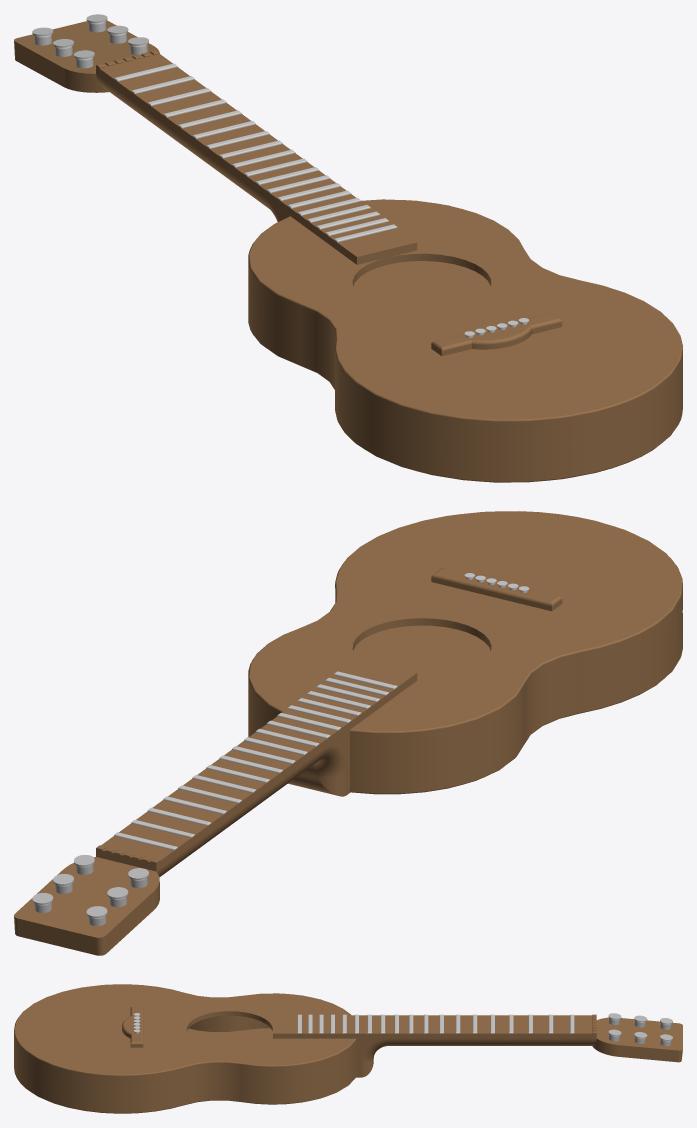
File: guitar.glb
The picture shows the model from 3 angles, top to bottom: view 1: azimuth 30°, elevation 25°; view 2: azimuth 150°, elevation 25°; view 3: azimuth 270°, elevation 25°; orthographic projection. The views are drawn at different scales.
Visible parts, largest first — view 1: Body1.031; view 2: Body1.031; view 3: Body1.031.
Part boxes in pixels (x1,y1,x2,y2): Body1.031: (14,20,682,482); Body1.031: (14,511,682,955); Body1.031: (14,984,682,1113).
Bounding box in the file's own units: 49.98 × 11.75 × 155.
